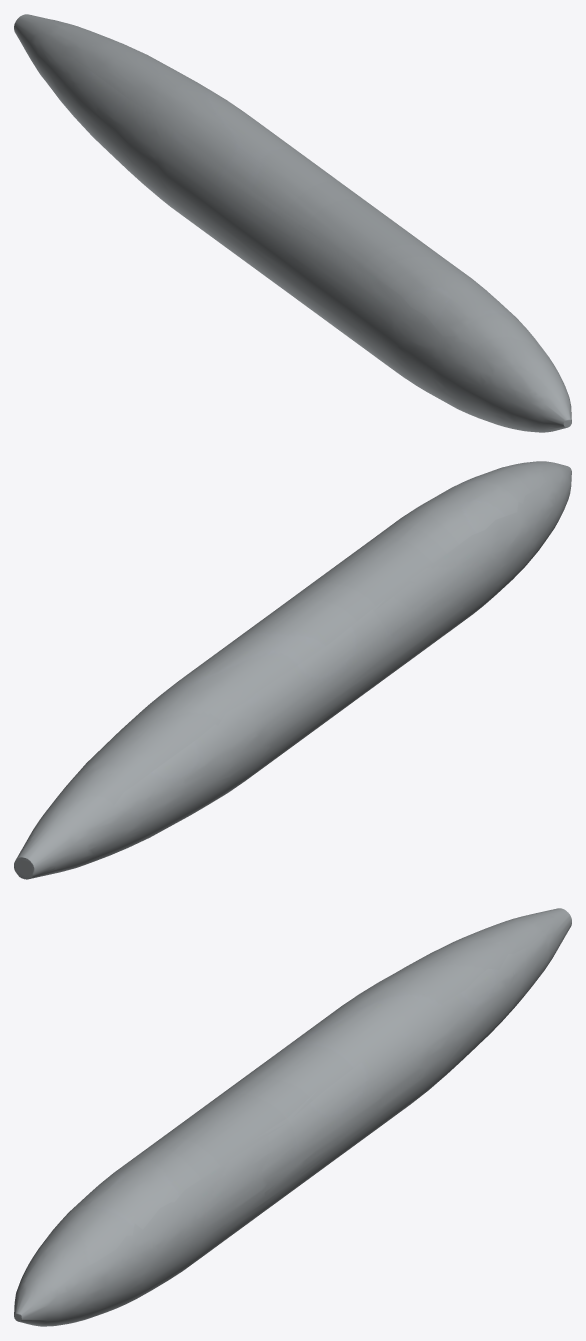
The model's file is rpl522.glb.
The picture shows the model from 3 angles, top to bottom: view 1: azimuth 30°, elevation 25°; view 2: azimuth 150°, elevation 25°; view 3: azimuth 330°, elevation 25°; orthographic projection.
Parts seen in each view (by area): view 1: airframe; view 2: airframe; view 3: airframe.
Part boxes in pixels (<box>): airframe: <box>14,14,571,432</box>; airframe: <box>14,461,571,879</box>; airframe: <box>14,908,571,1326</box>.
Bounding box in the file's own units: 0.6312 × 0.6303 × 5.7.
Materials: 1 (1 with a texture image).
